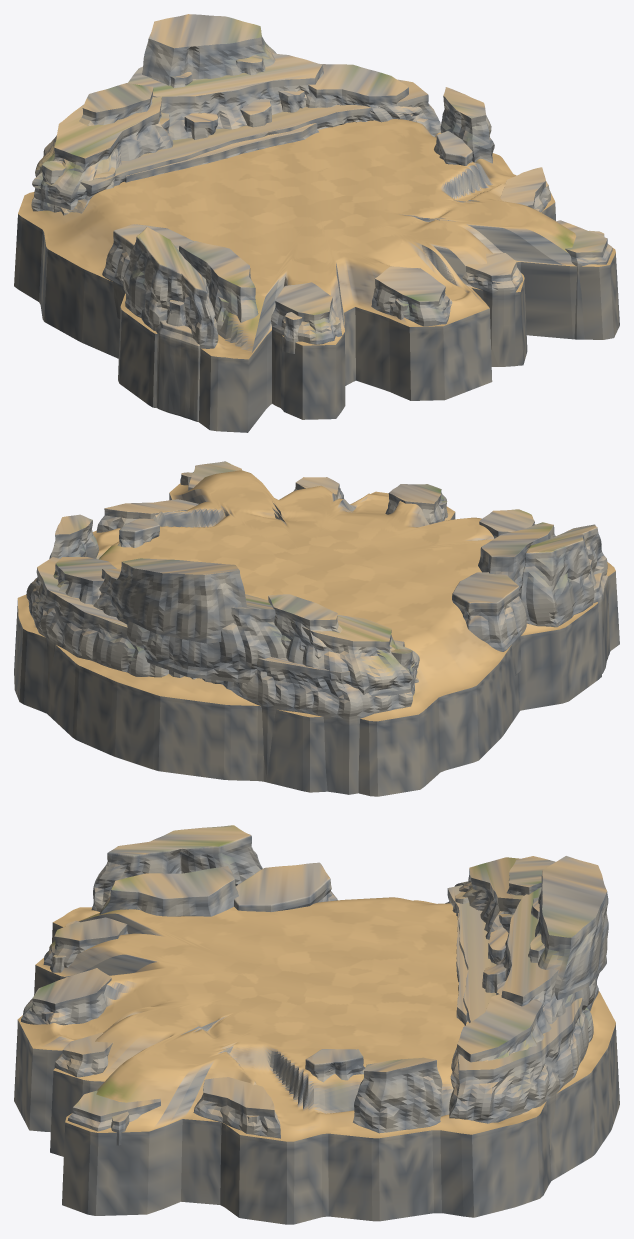
Rendered from projects-island-v2-r3.glb.
3 views of the same model, one above another, from view 1: azimuth 30°, elevation 25°; view 2: azimuth 150°, elevation 25°; view 3: azimuth 270°, elevation 25° (orthographic). The views are drawn at different scales.
Visible parts, largest first — view 1: ProjectsIsland_V2_Continuous_Connected_Coast_And_Bedrock, ProjectsIsland_V2_Western_Broad_Second_Terrace, ProjectsIsland_V2_Cannon_Continuous_Middle_Terrace, ProjectsIsland_V2_Cannon_Asymmetric_High_Plateau, ProjectsIsland_V2_West_Front_Outer_Cleft_Buttress, ProjectsIsland_V2_Rear_Connected_Low_Saddle, ProjectsIsland_V2_East_Long_Lower_Shoulder, ProjectsIsland_V2_West_Toe_Grounded_Not_Hanging, ProjectsIsland_V2_Front_East_Short_Finger, ProjectsIsland_V2_Front_Left_Principal_Finger, ProjectsIsland_V2_West_Front_Inner_Cleft_Buttress, ProjectsIsland_V2_Front_Central_Long_Finger (+11 smaller); view 2: ProjectsIsland_V2_Continuous_Connected_Coast_And_Bedrock, ProjectsIsland_V2_Rear_Connected_Low_Saddle, ProjectsIsland_V2_Cannon_Asymmetric_High_Plateau, ProjectsIsland_V2_Cannon_Continuous_Middle_Terrace, ProjectsIsland_V2_West_Front_Outer_Cleft_Buttress, ProjectsIsland_V2_Western_Broad_Second_Terrace, ProjectsIsland_V2_West_Low_Shelf_Before_Cleft, ProjectsIsland_V2_Western_High_Shoulder_Connected_To_Cannon, ProjectsIsland_V2_West_Front_Inner_Cleft_Buttress, ProjectsIsland_V2_East_Long_Lower_Shoulder, ProjectsIsland_V2_East_Waterfall_Channel_Rear_Bank, ProjectsIsland_V2_East_Ledge_North_Of_Access (+6 smaller); view 3: ProjectsIsland_V2_Continuous_Connected_Coast_And_Bedrock, ProjectsIsland_V2_Rear_Connected_Low_Saddle, ProjectsIsland_V2_Cannon_Asymmetric_High_Plateau, ProjectsIsland_V2_West_Front_Outer_Cleft_Buttress, ProjectsIsland_V2_East_Waterfall_Channel_Rear_Bank, ProjectsIsland_V2_West_Front_Inner_Cleft_Buttress, ProjectsIsland_V2_Cannon_Continuous_Middle_Terrace, ProjectsIsland_V2_East_Long_Lower_Shoulder, ProjectsIsland_V2_West_Low_Shelf_Before_Cleft, ProjectsIsland_V2_East_Ledge_North_Of_Access, ProjectsIsland_V2_Front_Central_Long_Finger, ProjectsIsland_V2_Western_Broad_Second_Terrace (+7 smaller).
Part boxes in pixels (box(x1,y1,x2,y2)): ProjectsIsland_V2_Continuous_Connected_Coast_And_Bedrock: box(14, 119, 619, 432); ProjectsIsland_V2_Western_Broad_Second_Terrace: box(32, 96, 173, 210); ProjectsIsland_V2_Cannon_Continuous_Middle_Terrace: box(128, 53, 323, 139); ProjectsIsland_V2_Cannon_Asymmetric_High_Plateau: box(142, 14, 276, 85); ProjectsIsland_V2_West_Front_Outer_Cleft_Buttress: box(123, 227, 218, 363); ProjectsIsland_V2_Rear_Connected_Low_Saddle: box(31, 79, 440, 215); ProjectsIsland_V2_East_Long_Lower_Shoulder: box(306, 64, 422, 122); ProjectsIsland_V2_West_Toe_Grounded_Not_Hanging: box(156, 320, 199, 421); ProjectsIsland_V2_Front_East_Short_Finger: box(462, 253, 522, 366); ProjectsIsland_V2_Front_Left_Principal_Finger: box(271, 282, 337, 407); ProjectsIsland_V2_West_Front_Inner_Cleft_Buttress: box(179, 241, 258, 322); ProjectsIsland_V2_Front_Central_Long_Finger: box(371, 266, 452, 326); ProjectsIsland_V2_Continuous_Connected_Coast_And_Bedrock: box(14, 470, 619, 796); ProjectsIsland_V2_Rear_Connected_Low_Saddle: box(26, 557, 418, 794); ProjectsIsland_V2_Cannon_Asymmetric_High_Plateau: box(110, 558, 246, 643); ProjectsIsland_V2_Cannon_Continuous_Middle_Terrace: box(93, 569, 285, 683); ProjectsIsland_V2_West_Front_Outer_Cleft_Buttress: box(519, 524, 607, 627); ProjectsIsland_V2_Western_Broad_Second_Terrace: box(267, 600, 419, 698); ProjectsIsland_V2_West_Low_Shelf_Before_Cleft: box(452, 572, 526, 675); ProjectsIsland_V2_Western_High_Shoulder_Connected_To_Cannon: box(268, 594, 342, 658); ProjectsIsland_V2_West_Front_Inner_Cleft_Buttress: box(478, 522, 555, 588); ProjectsIsland_V2_East_Long_Lower_Shoulder: box(53, 557, 116, 604); ProjectsIsland_V2_East_Waterfall_Channel_Rear_Bank: box(49, 514, 98, 558); ProjectsIsland_V2_East_Ledge_North_Of_Access: box(96, 499, 198, 532); ProjectsIsland_V2_Continuous_Connected_Coast_And_Bedrock: box(14, 897, 619, 1224); ProjectsIsland_V2_Rear_Connected_Low_Saddle: box(445, 885, 593, 1154); ProjectsIsland_V2_Cannon_Asymmetric_High_Plateau: box(535, 856, 608, 999); ProjectsIsland_V2_West_Front_Outer_Cleft_Buttress: box(91, 825, 262, 911); ProjectsIsland_V2_East_Waterfall_Channel_Rear_Bank: box(353, 1057, 442, 1133); ProjectsIsland_V2_West_Front_Inner_Cleft_Buttress: box(99, 866, 238, 916); ProjectsIsland_V2_Cannon_Continuous_Middle_Terrace: box(496, 887, 598, 1023); ProjectsIsland_V2_East_Long_Lower_Shoulder: box(450, 993, 551, 1088); ProjectsIsland_V2_West_Low_Shelf_Before_Cleft: box(234, 862, 337, 911); ProjectsIsland_V2_East_Ledge_North_Of_Access: box(193, 1077, 280, 1142); ProjectsIsland_V2_Front_Central_Long_Finger: box(21, 968, 111, 1025); ProjectsIsland_V2_Western_Broad_Second_Terrace: box(454, 857, 523, 939).
Bounding box in the file's own units: 68.72 × 28.29 × 70.88.
